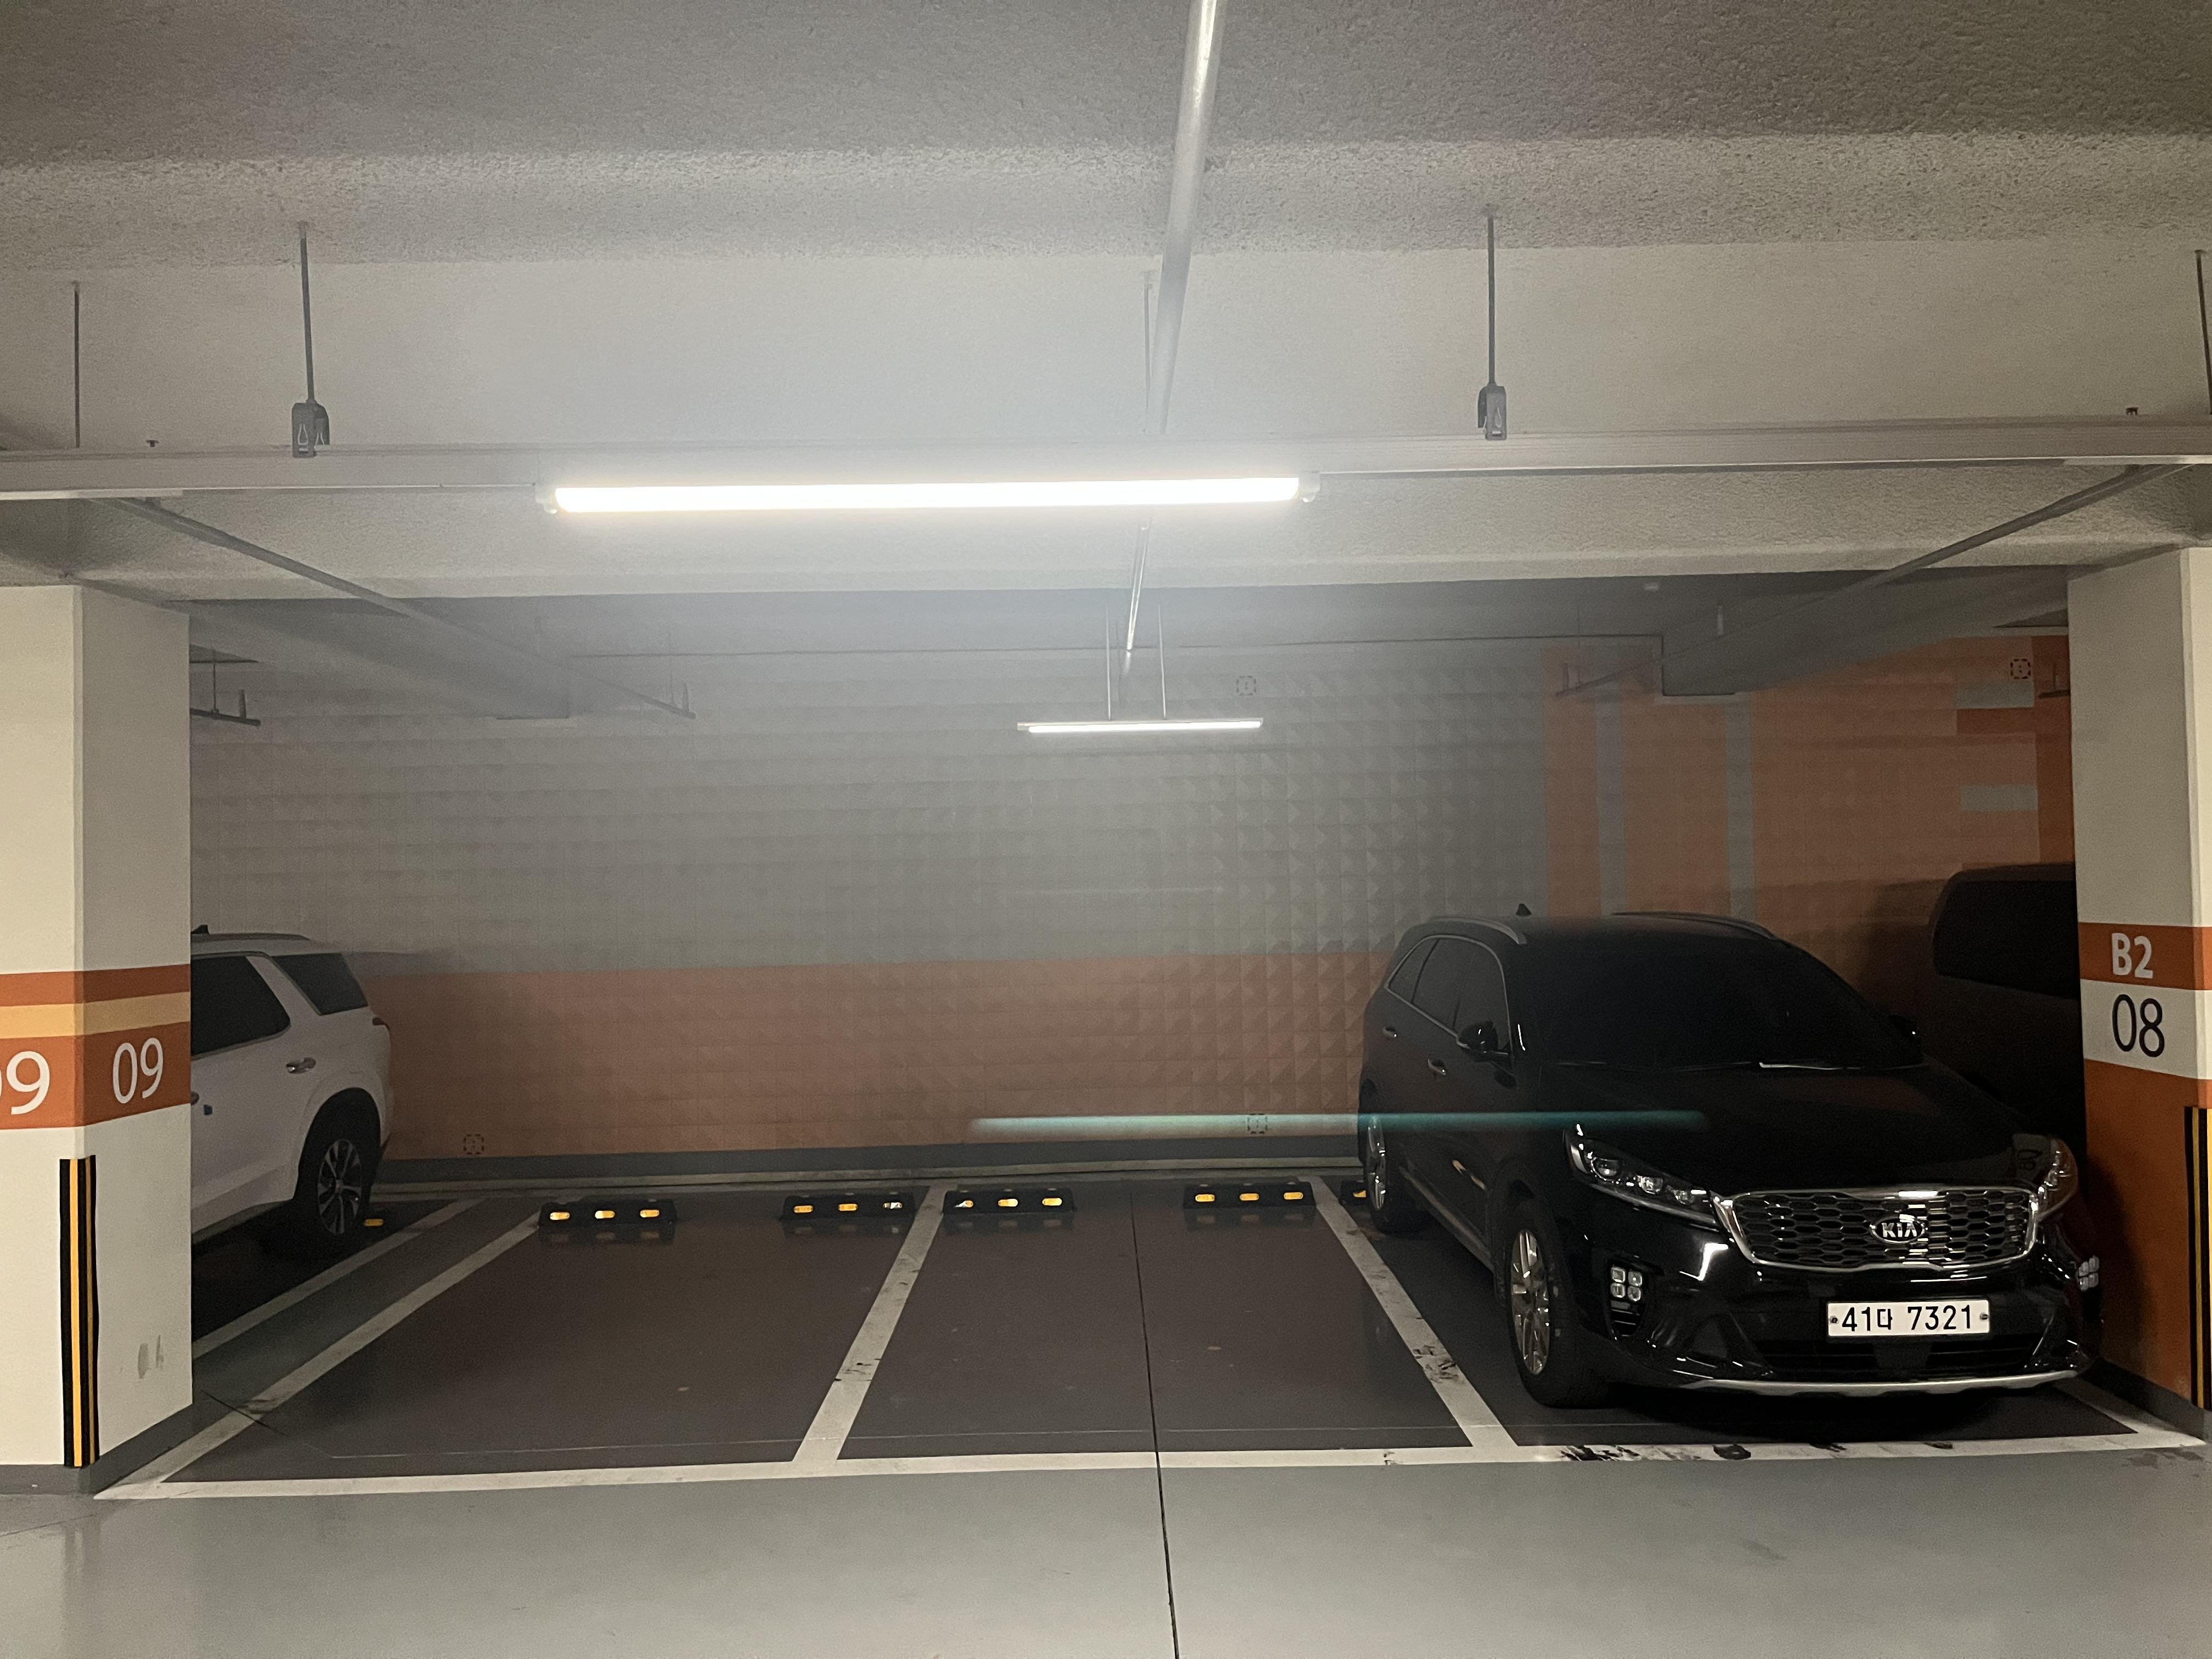empty: (70, 1165, 952, 1521), (754, 1148, 1570, 1497)
occupied: (1361, 889, 2156, 1494)
